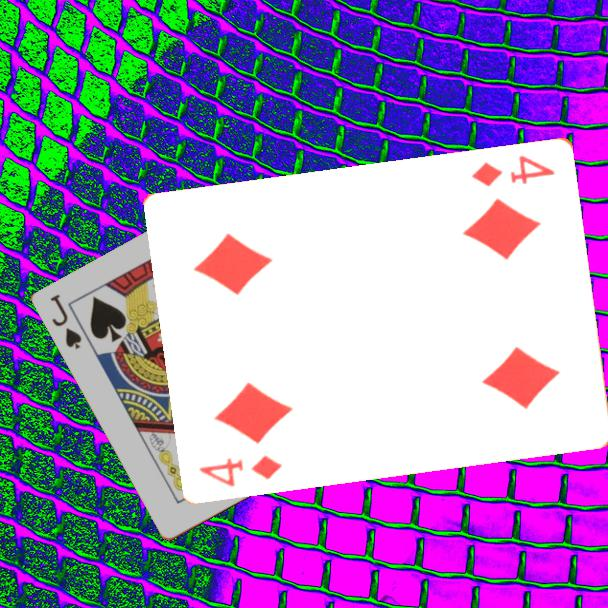d04: (196, 451, 286, 489), (469, 151, 558, 189)
s11: (47, 291, 85, 352)
